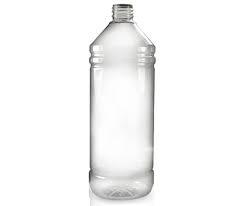Container for household chemicals: (78, 1, 160, 206)
